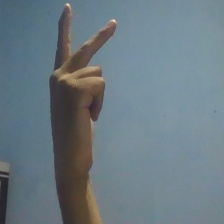K: (43, 2, 122, 177)
